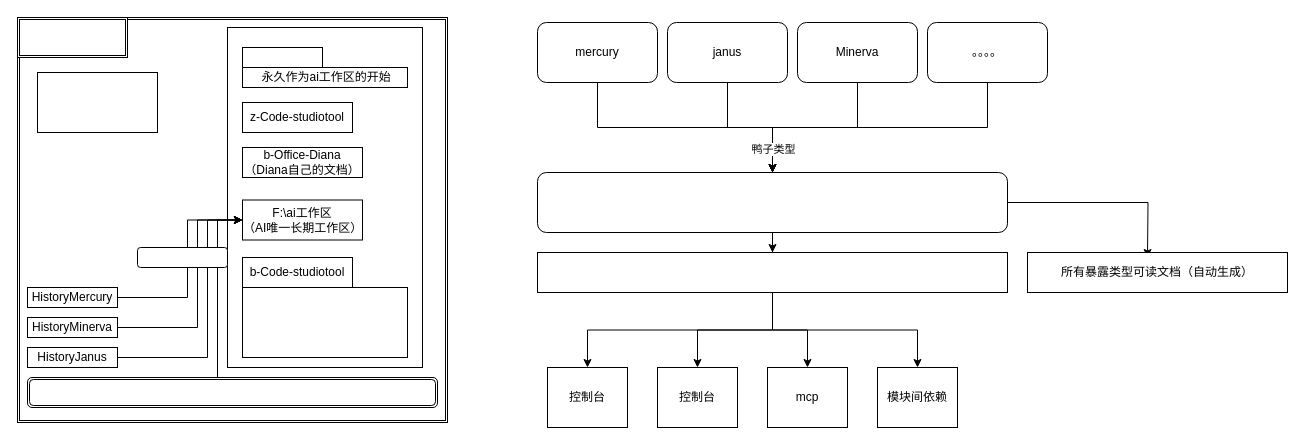
The diagram is 1305 pixels wide and 445 high, and some of its shapes have lost their labels. The shapes that lost their labels are listed below. From the top down, each one's centre as x and y in pixels, then its label:
At (72,37): "HistoryVesta".
At (282,57): "HistoryDiana".
At (97,102): "非Diana管理文档/快捷工具的编号分支不再纳入ai决策过程".
At (772,202): "Vulcan 模块注册器".
At (182,257): "文档和工作区".
At (772,272): "指令总线".
At (325,322): "这里可以放开发工具比如统一的发布流程（不再各自维护）所有项目可用代码操作对齐的部分".
At (232,392): "HistoryVulcan".
